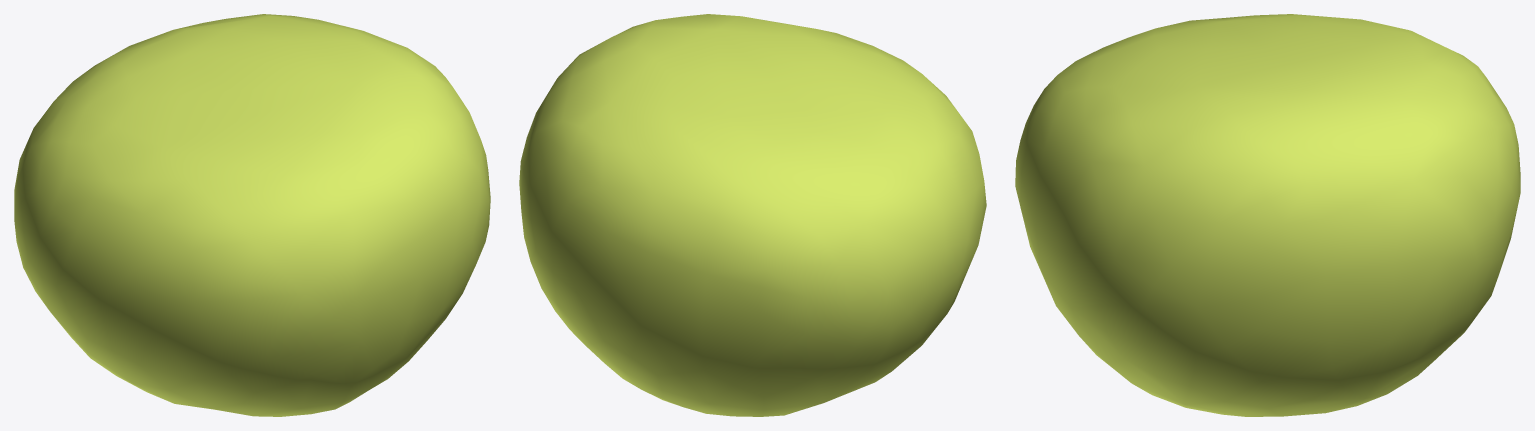
Rendered from Bush_D.fbx.
The picture shows the model from 3 angles, left to right: view 1: azimuth 30°, elevation 25°; view 2: azimuth 150°, elevation 25°; view 3: azimuth 270°, elevation 25°; orthographic projection. The views are drawn at different scales.
Parts seen in each view (by area): view 1: Bush_f_m_03; view 2: Bush_f_m_03; view 3: Bush_f_m_03.
Part boxes in pixels (box(x1,y1,x2,y2)): Bush_f_m_03: box(14, 14, 490, 416); Bush_f_m_03: box(519, 14, 986, 416); Bush_f_m_03: box(1015, 14, 1520, 416).
Bounding box in the file's own units: 148 × 113 × 149.
